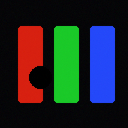2 circle: (29, 66, 51, 88)
